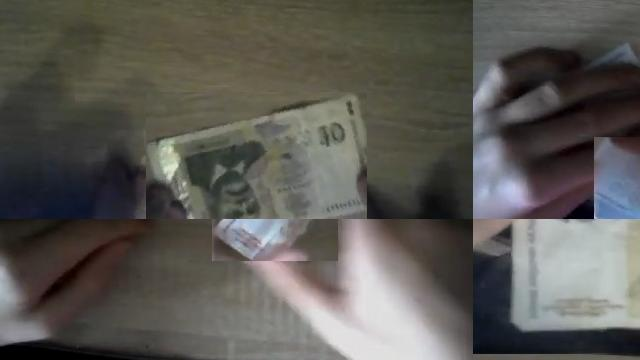10leva: (146, 92, 367, 219), (473, 219, 640, 354)
20leva: (594, 137, 640, 219)
5leva: (212, 219, 316, 261)
